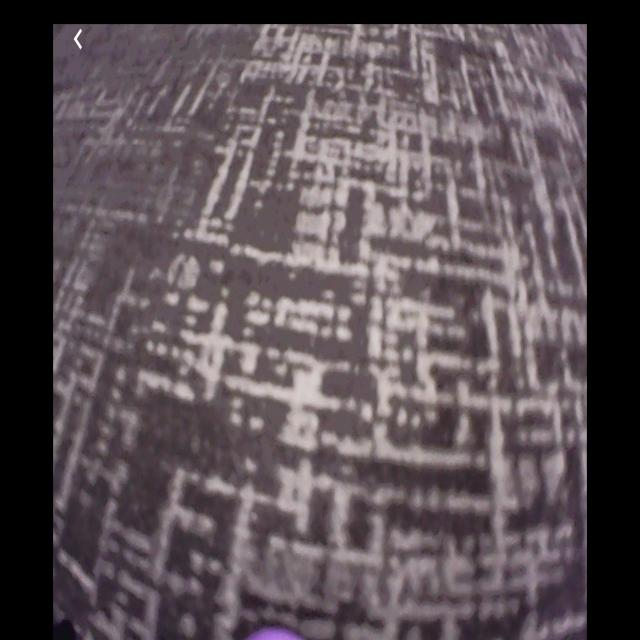ball: (250, 625, 307, 640)
